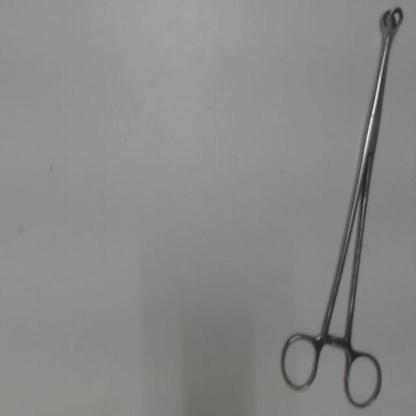8 Babcock Tissue Forceps: (274, 1, 410, 412)
